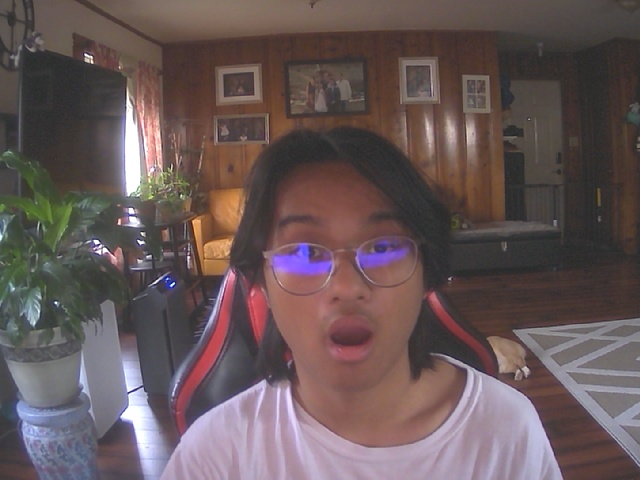fear: (251, 148, 424, 394)
